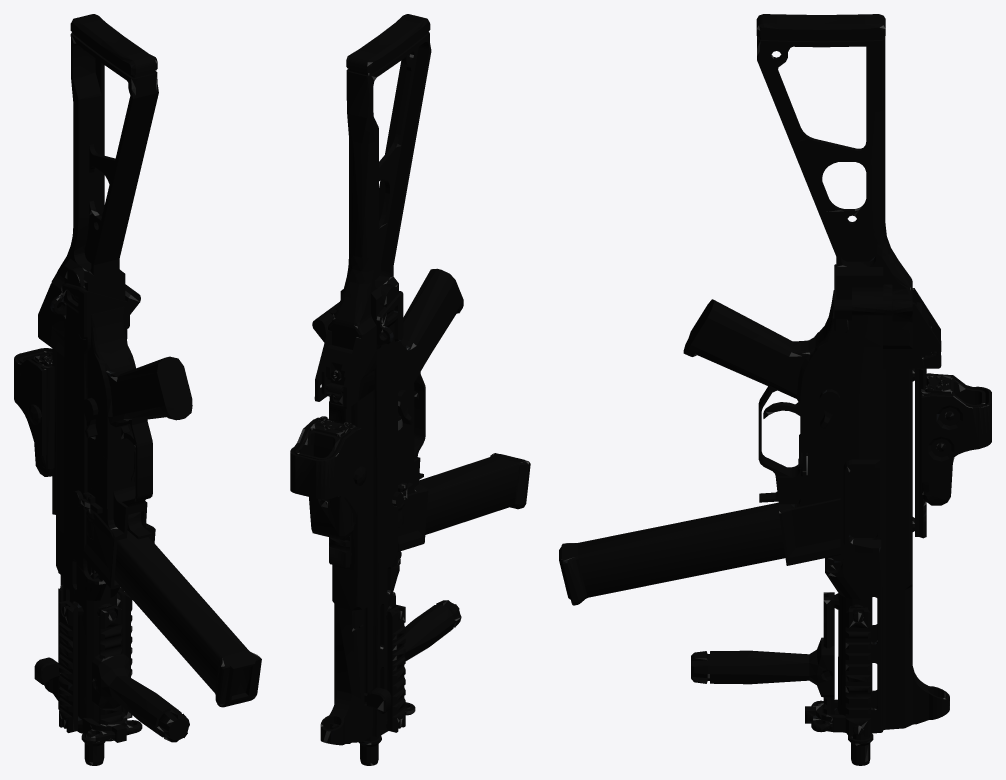
File: UMP45__Light_Weapon.fbx
3 renders of one model, left to right at view 1: azimuth 30°, elevation 25°; view 2: azimuth 150°, elevation 25°; view 3: azimuth 270°, elevation 25°, orthographic. The views are drawn at different scales.
Visible parts, largest first — view 1: asset_UMP45.001; view 2: asset_UMP45.001; view 3: asset_UMP45.001.
Boxes of the visible parts, left/top/right/bottom form: asset_UMP45.001: left=14, top=14, right=261, bottom=765; asset_UMP45.001: left=290, top=14, right=530, bottom=765; asset_UMP45.001: left=559, top=14, right=991, bottom=765.
Size of the model in its own units: 0.0422 by 0.414 by 0.2184.
